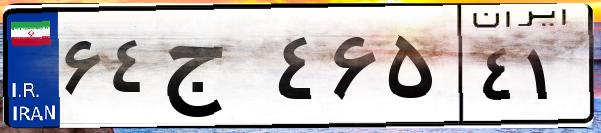1: (525, 38, 570, 115)
4: (270, 28, 330, 110), (475, 38, 525, 113), (110, 28, 158, 98)
5: (385, 28, 445, 110)
6: (330, 28, 385, 110), (57, 26, 110, 100)
ج: (158, 20, 270, 120)
